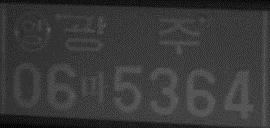0: (11, 61, 43, 109)
3: (149, 66, 179, 116)
4: (223, 70, 254, 119)
5: (113, 64, 143, 112)
6: (45, 61, 79, 113), (185, 68, 217, 116)
광주_D: (61, 13, 202, 55)
마: (81, 71, 109, 106)
영: (13, 10, 52, 54)
